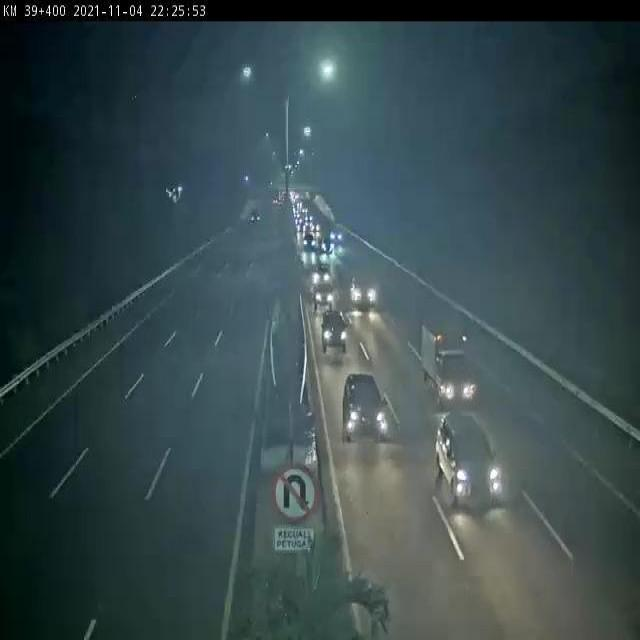car: (431, 413, 511, 504), (346, 367, 391, 445), (319, 310, 352, 354), (353, 273, 380, 312), (313, 264, 333, 285), (315, 287, 337, 304), (303, 233, 314, 252), (323, 240, 336, 255), (331, 229, 343, 243)
truck-s-: (420, 313, 481, 407)
